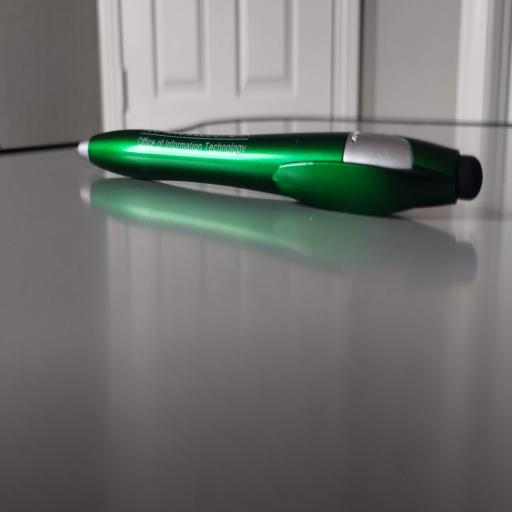pen: (78, 130, 482, 214)
